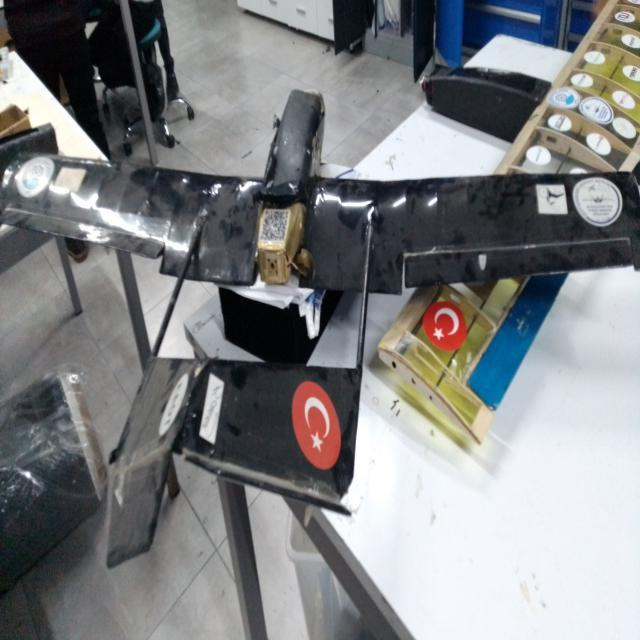iha: (1, 73, 640, 570)
